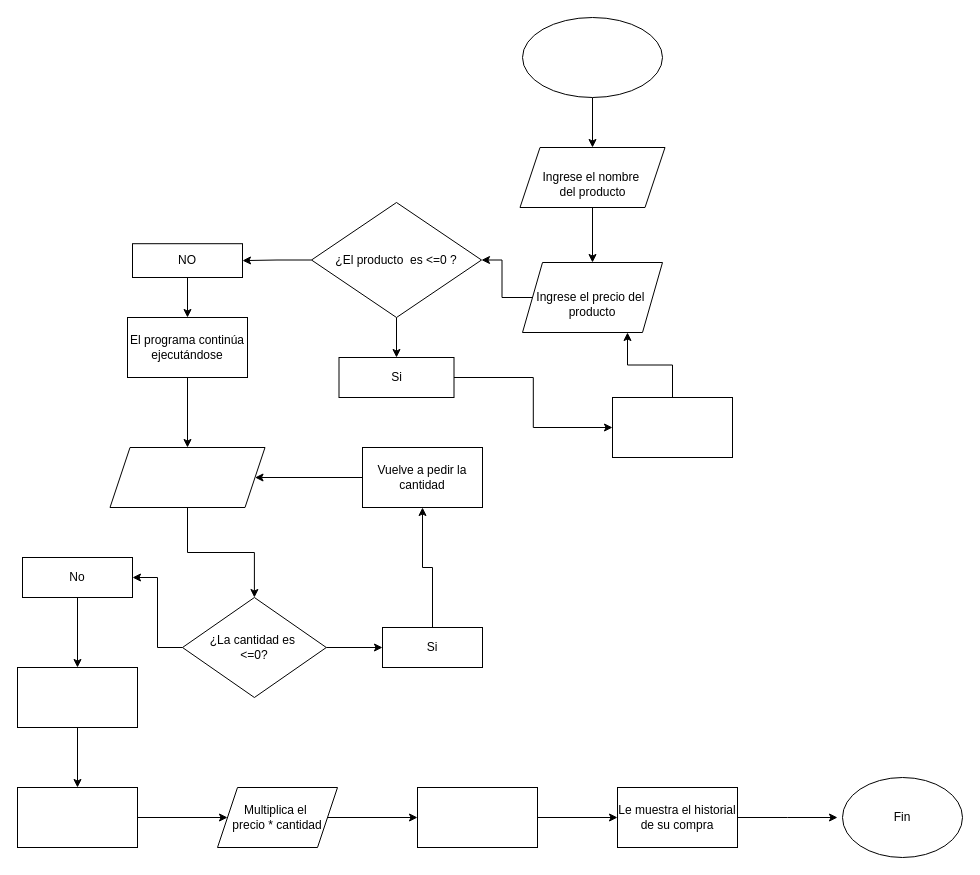
Image size: 980x875. Some labels were removed from this diagram. Each missing label, with the centre of its shape:
"El programa calcula el costo total" belongs at pixel 77 817.
"El programa continua ejecutándose" belongs at pixel 77 697.
"Ingrese la cantidad que desea llevar" belongs at pixel 187 477.
"Inicio" belongs at pixel 592 57.
"Le indica al usuario el total a pagar" belongs at pixel 477 817.
"Vuelve a pedir el producto" belongs at pixel 672 427.
